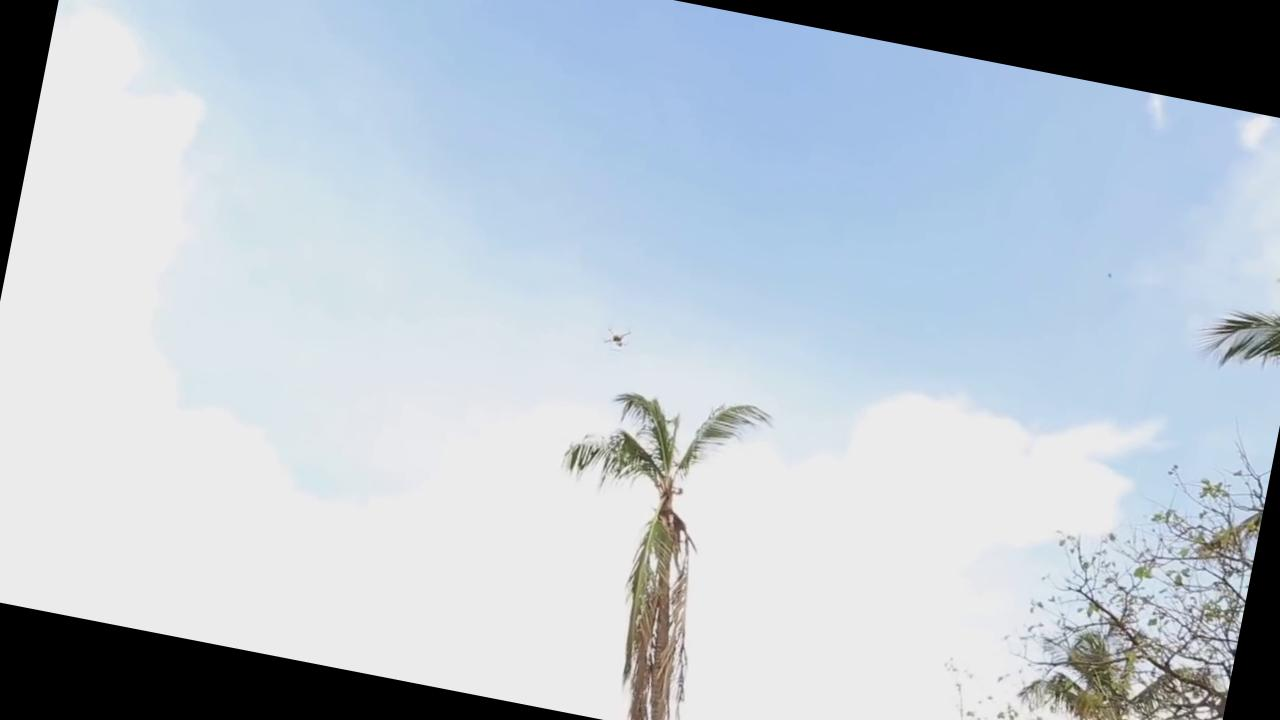drone: (600, 322, 640, 354)
